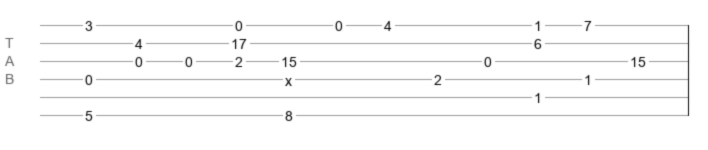0: (85, 72, 93, 82), (135, 54, 143, 64), (185, 54, 193, 64), (235, 18, 243, 28), (335, 18, 343, 28), (484, 54, 492, 64)
1: (534, 90, 542, 100), (534, 18, 542, 28), (584, 72, 592, 82)
15: (281, 54, 297, 64), (630, 54, 646, 64)
17: (231, 36, 247, 46)
2: (235, 54, 243, 64), (434, 72, 442, 82)
3: (85, 18, 93, 28)
4: (135, 36, 143, 46), (384, 18, 392, 28)
5: (85, 108, 93, 118)
6: (534, 36, 542, 46)
7: (584, 18, 592, 28)
8: (285, 108, 293, 118)
x: (285, 73, 292, 81)
